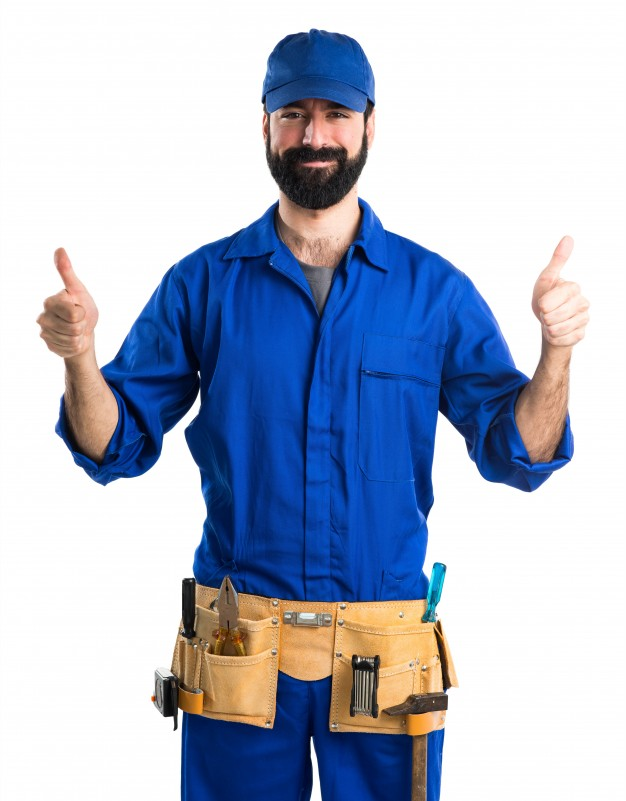thumbsup: (534, 235, 589, 346), (36, 247, 89, 357)
